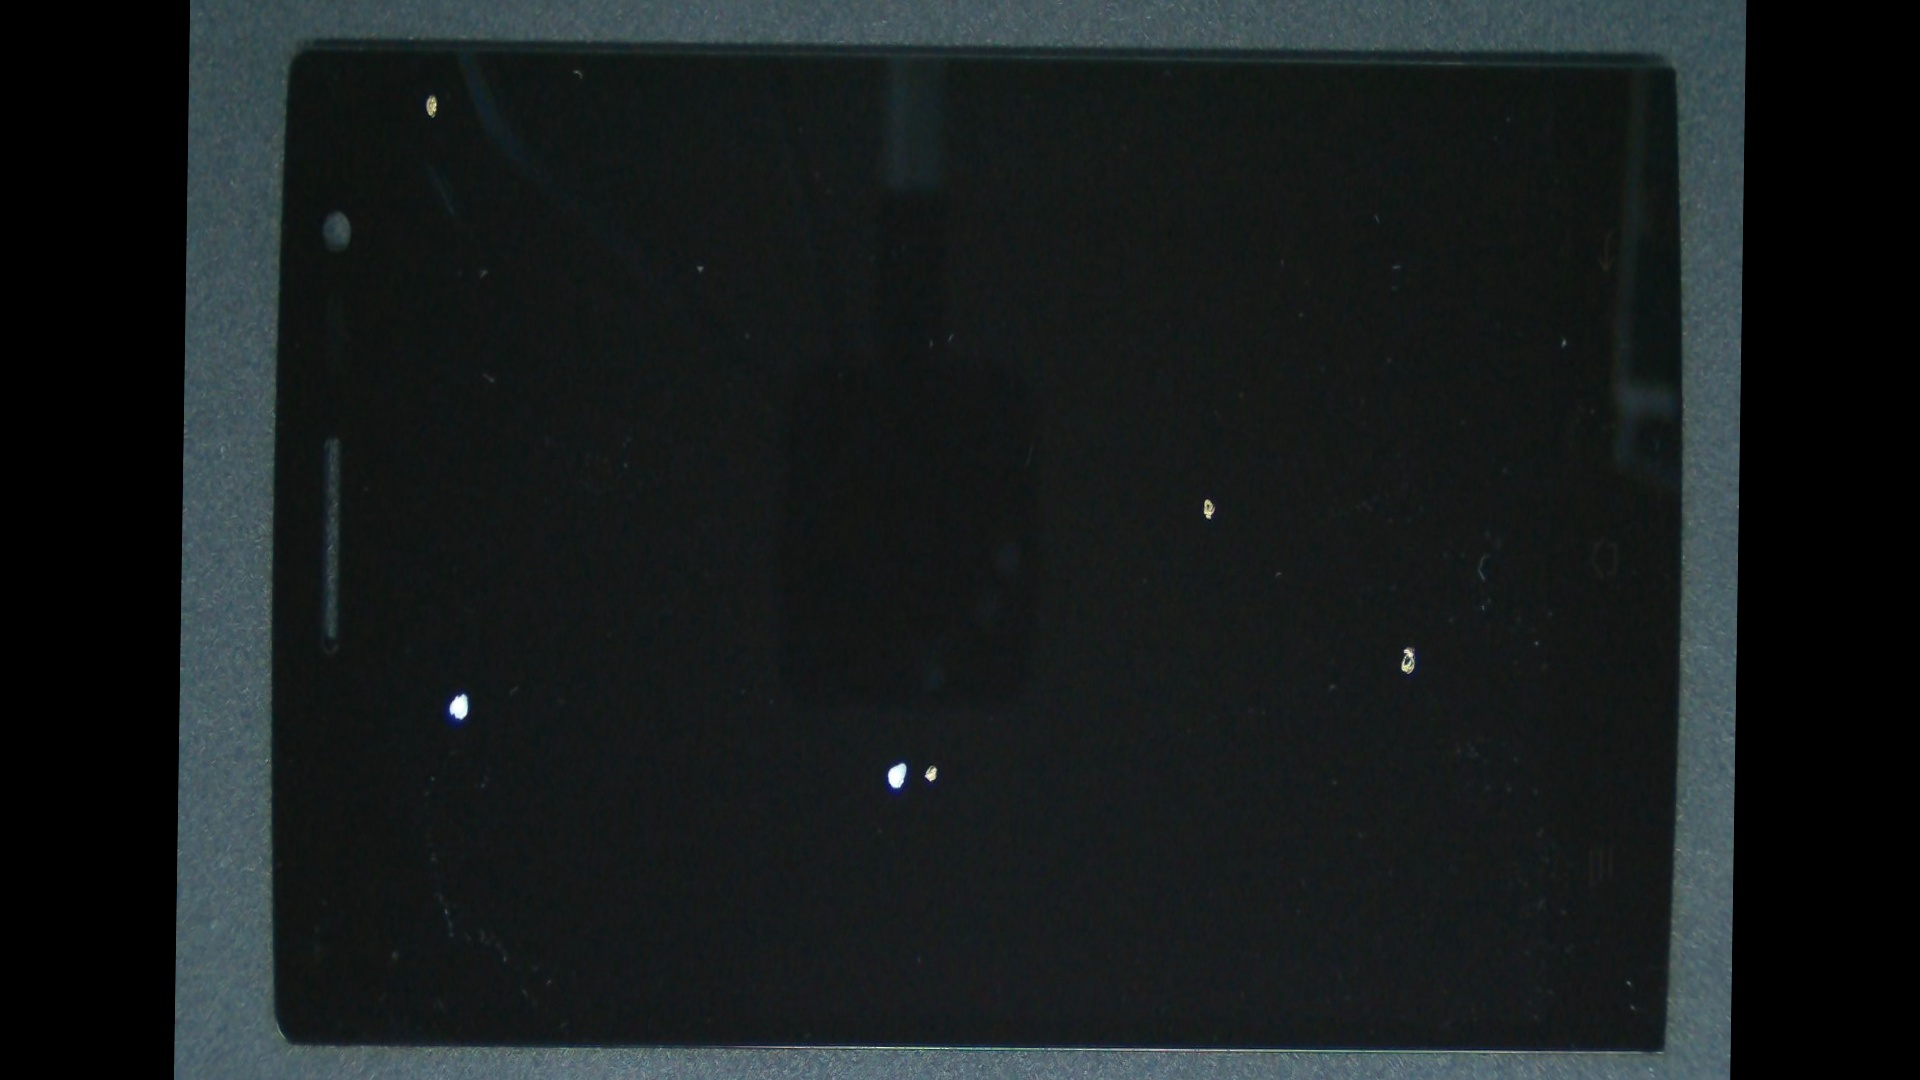oil: (789, 282, 1742, 1006), (691, 206, 1721, 787), (550, 340, 1315, 1080), (535, 339, 1271, 1080), (316, 305, 609, 1080), (309, 5, 551, 181)
